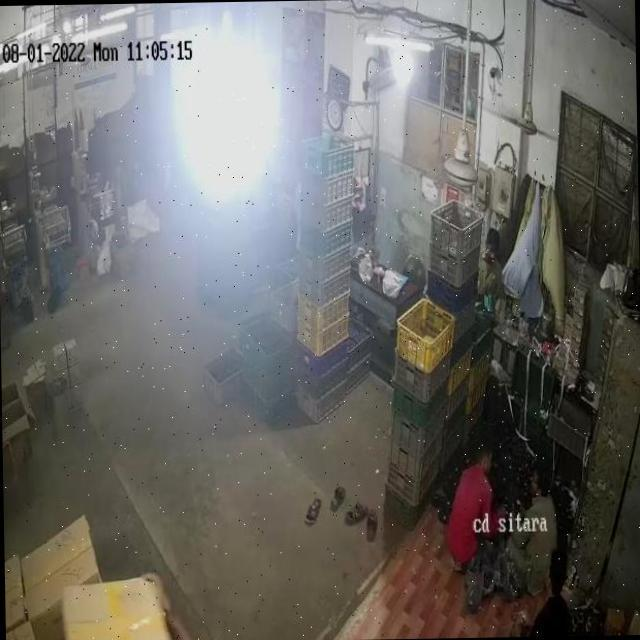person: (455, 456, 502, 554), (526, 474, 554, 566), (540, 549, 568, 636), (480, 227, 502, 302)
